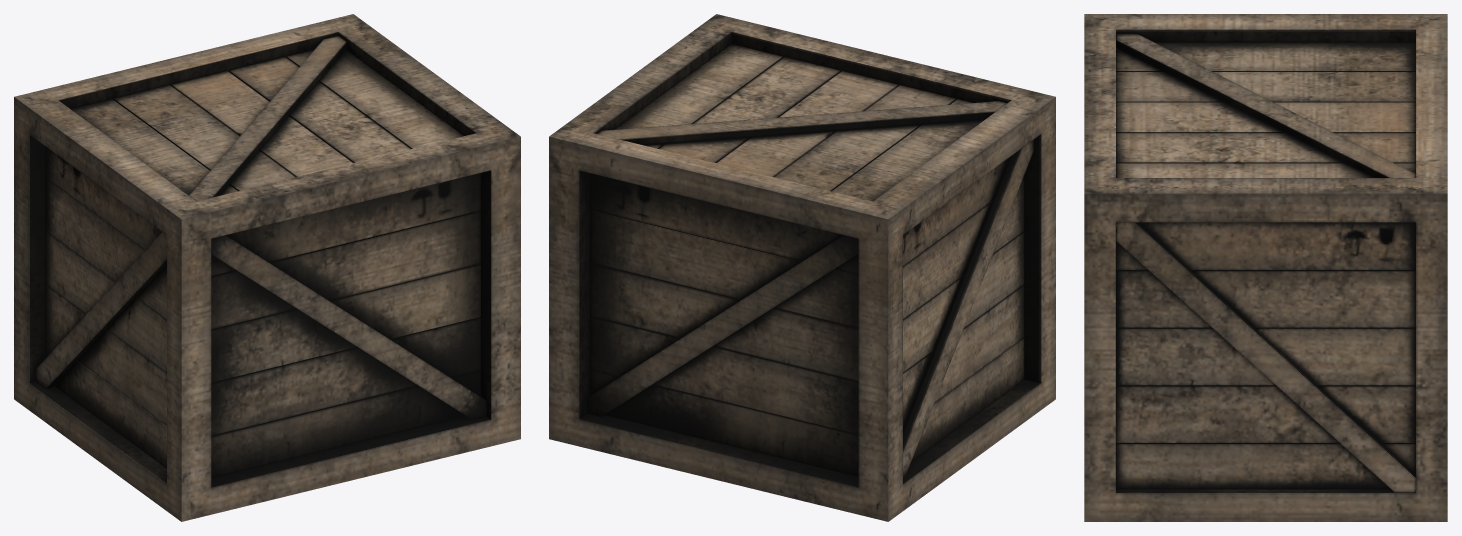
The model's file is crate.glb.
3 renders of one model, left to right at view 1: azimuth 30°, elevation 25°; view 2: azimuth 150°, elevation 25°; view 3: azimuth 270°, elevation 25°, orthographic. The views are drawn at different scales.
Parts seen in each view (by area): view 1: Dirty Crate; view 2: Dirty Crate; view 3: Dirty Crate.
Boxes of the visible parts, x1,y1,x2,y2 form: Dirty Crate: [14, 14, 520, 521]; Dirty Crate: [549, 14, 1055, 521]; Dirty Crate: [1084, 14, 1447, 521].
Size of the model in its own units: 70.25 by 59.84 by 60.05.
Materials: 1 (1 with a texture image).
